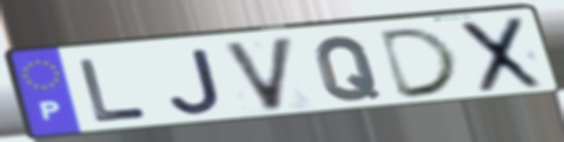D: (376, 24, 465, 102)
J: (165, 46, 226, 117)
L: (76, 56, 152, 126)
Q: (312, 34, 384, 104)
V: (218, 34, 297, 115)
X: (459, 14, 546, 96)
